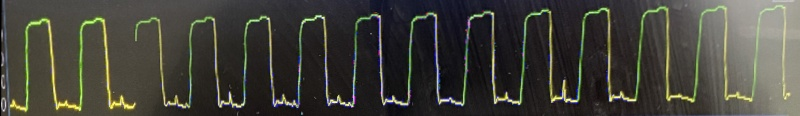hydrop_pressure: (0, 0, 794, 116)
